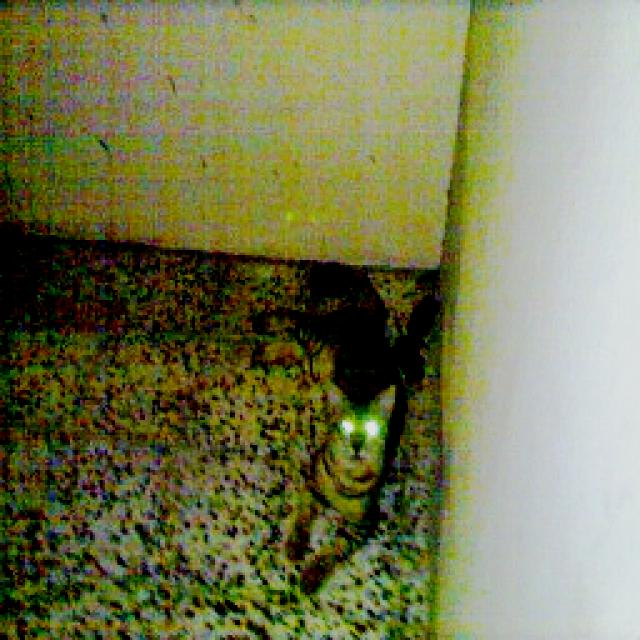cat: (232, 232, 432, 591)
